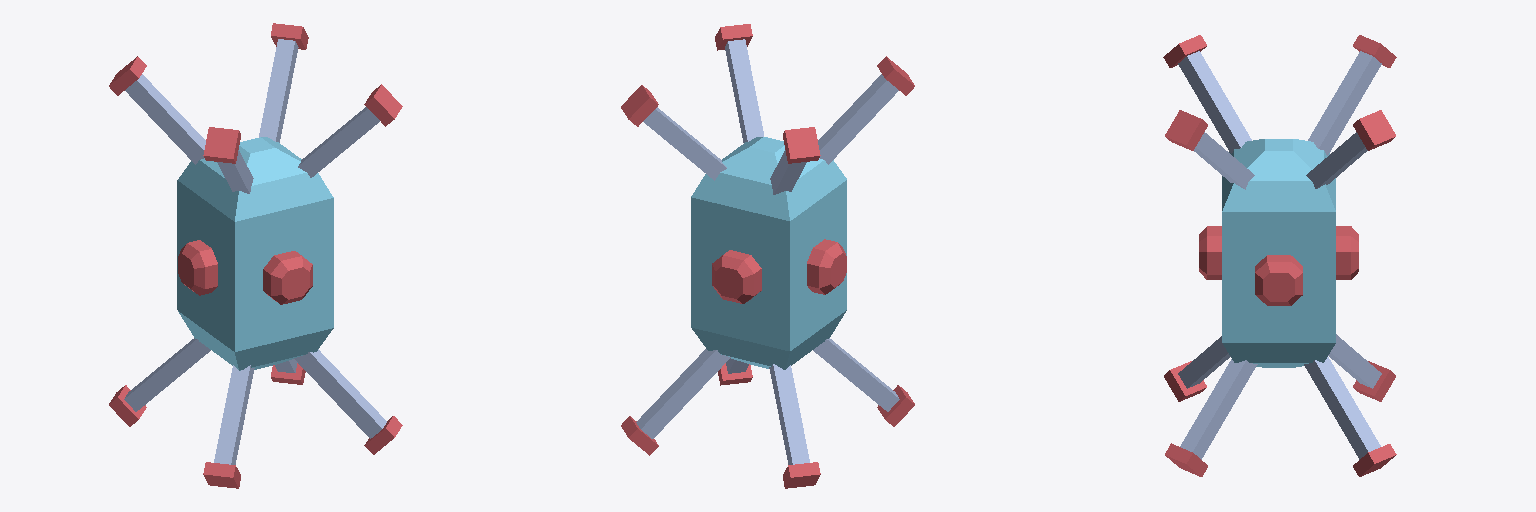
The model's file is warpcore.obj.
3 views of the same model, side by side, from view 1: azimuth 30°, elevation 25°; view 2: azimuth 150°, elevation 25°; view 3: azimuth 270°, elevation 25° (orthographic).
Parts seen in each view (by area): view 1: pCube12; view 2: pCube12; view 3: pCube12.
Part boxes in pixels (x1,y1,x2,y2): pCube12: (109, 23, 402, 488); pCube12: (621, 24, 914, 488); pCube12: (1163, 35, 1396, 476).
Bounding box in the file's own units: 3.9 × 6.67 × 3.94.